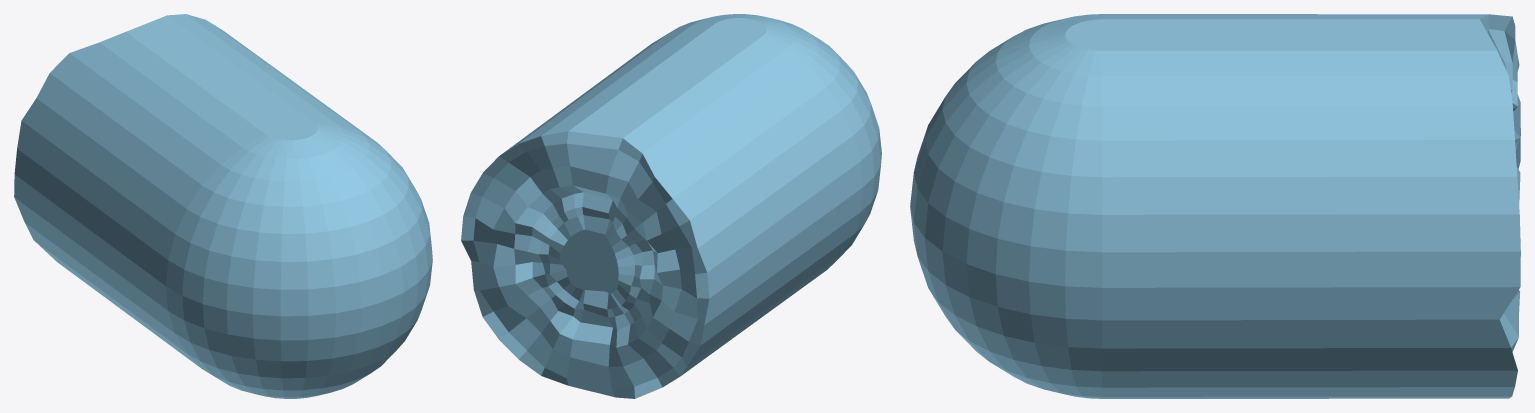
Rendered from bluePillyHalf.fbx.
The picture shows the model from 3 angles, left to right: view 1: azimuth 30°, elevation 25°; view 2: azimuth 150°, elevation 25°; view 3: azimuth 270°, elevation 25°; orthographic projection. The views are drawn at different scales.
Parts seen in each view (by area): view 1: blue; view 2: blue; view 3: blue.
Part boxes in pixels (x1=…): blue: x1=14, y1=14, x2=432, y2=398; blue: x1=461, y1=14, x2=881, y2=398; blue: x1=910, y1=14, x2=1520, y2=398.
Bounding box in the file's own units: 200 × 196 × 317.
1 material, 1 textured.
